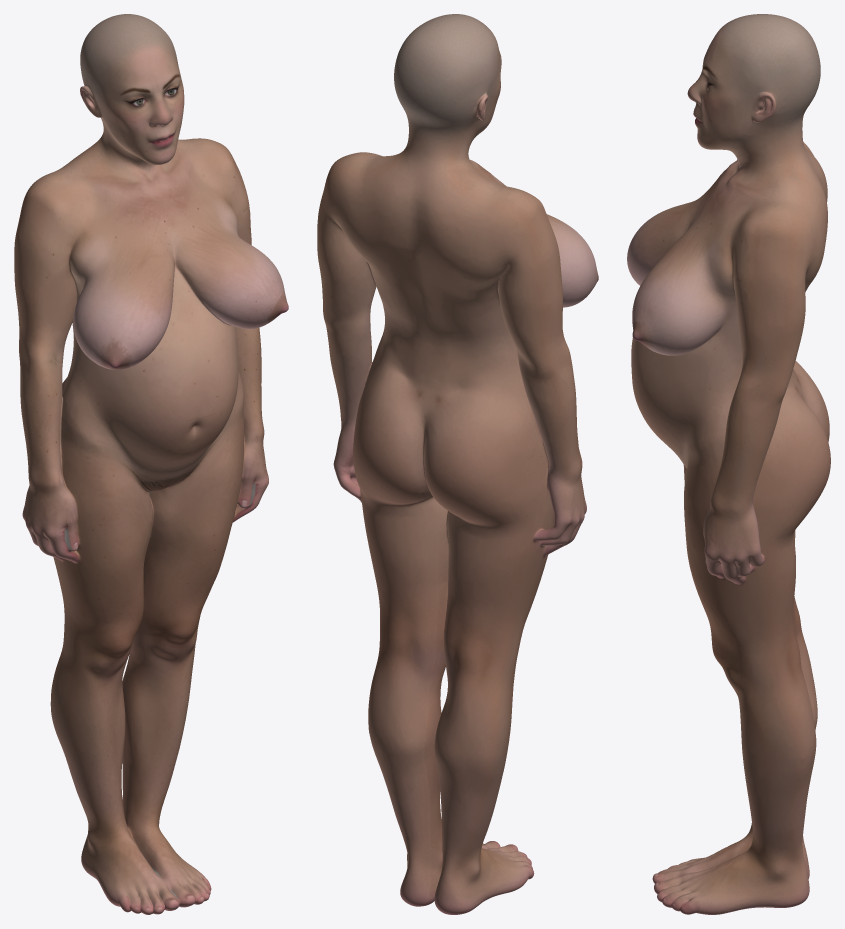
Rendered from Alkethadea.glb.
The picture shows the model from 3 angles, left to right: view 1: azimuth 30°, elevation 25°; view 2: azimuth 150°, elevation 25°; view 3: azimuth 270°, elevation 25°; orthographic projection. The views are drawn at different scales.
Size of the model in its own units: 0.5462 by 1.9 by 0.3999.
1 material, 1 textured.
